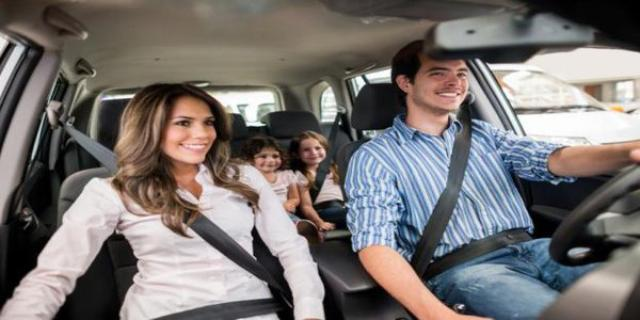seatbelt: (100, 156, 310, 320), (383, 118, 549, 280), (238, 146, 310, 220), (298, 141, 354, 207)
